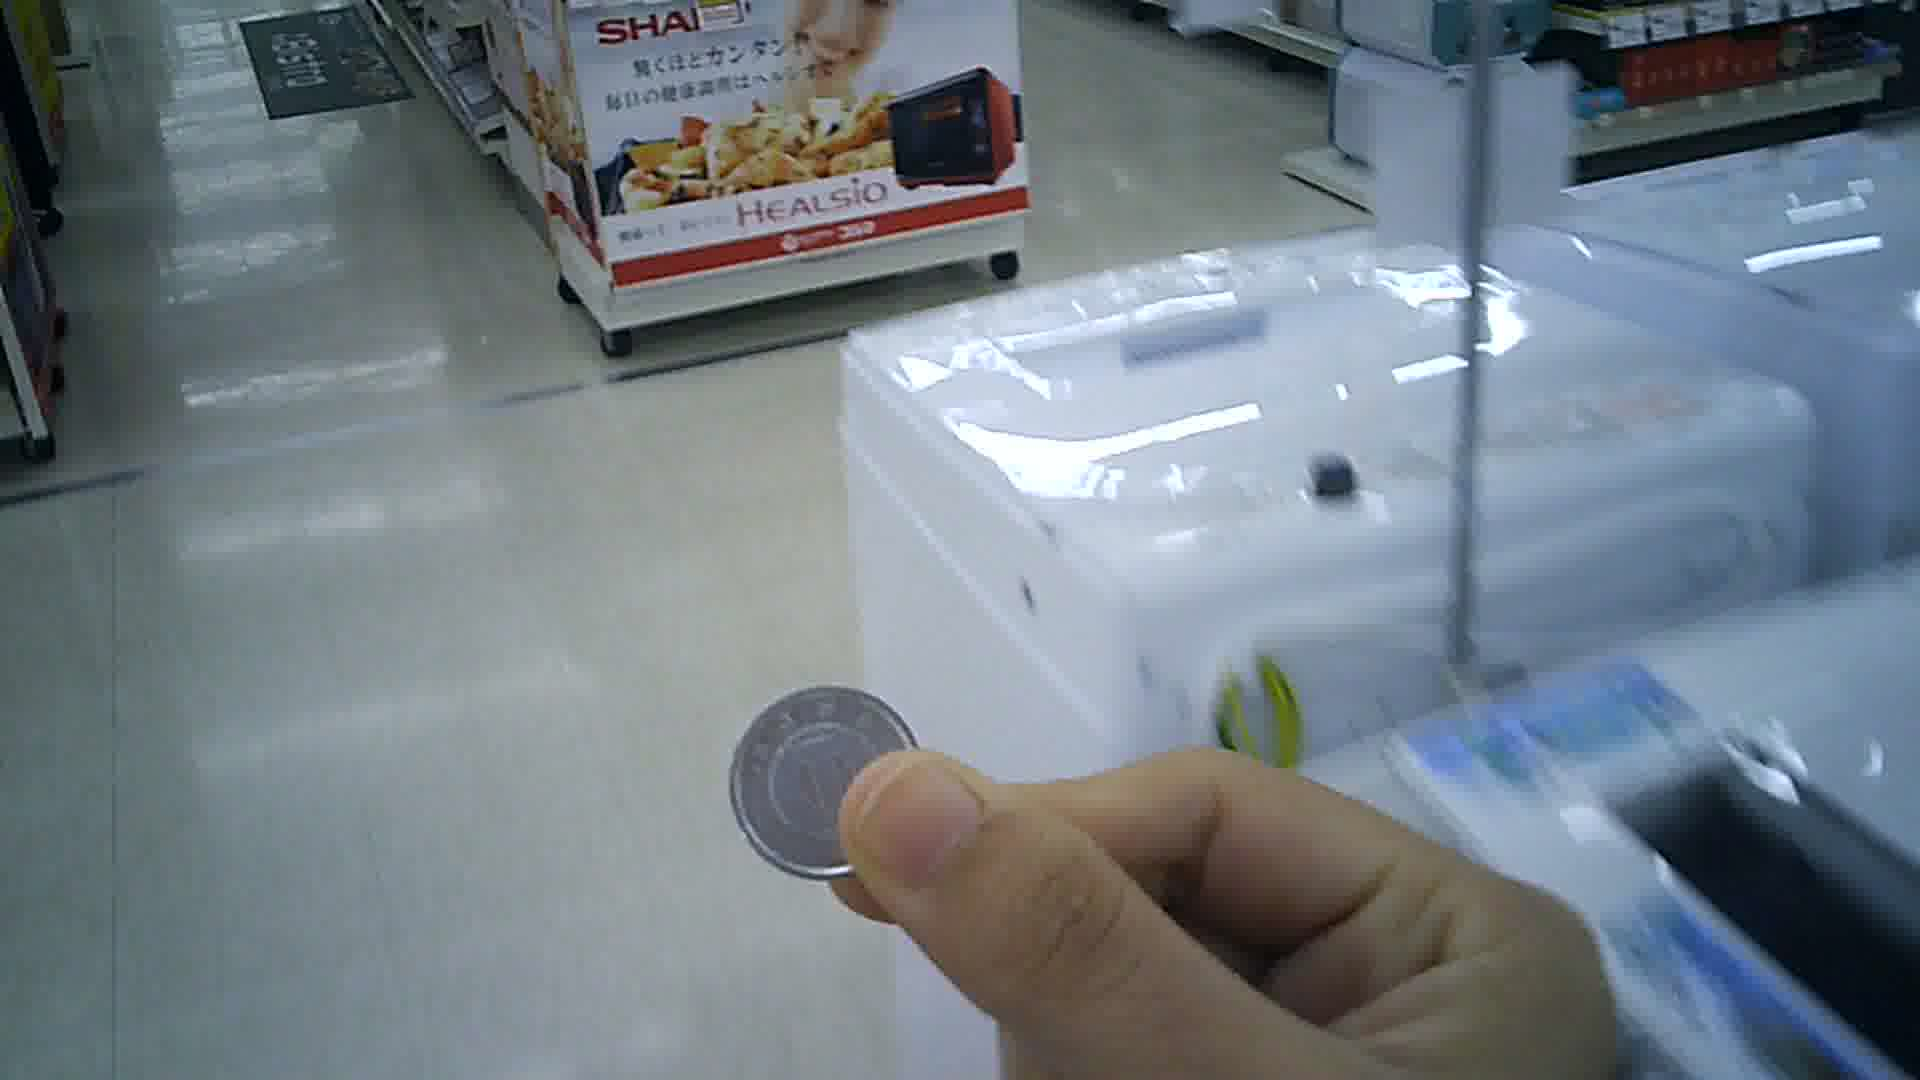1 Yen: (727, 682, 930, 878)
